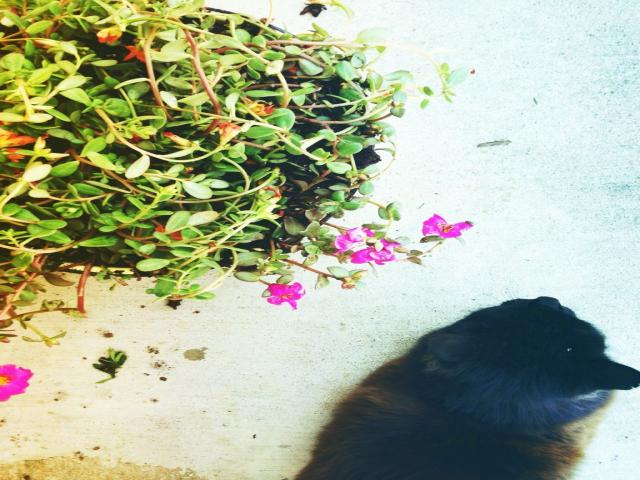Dog: (297, 295, 638, 480)
